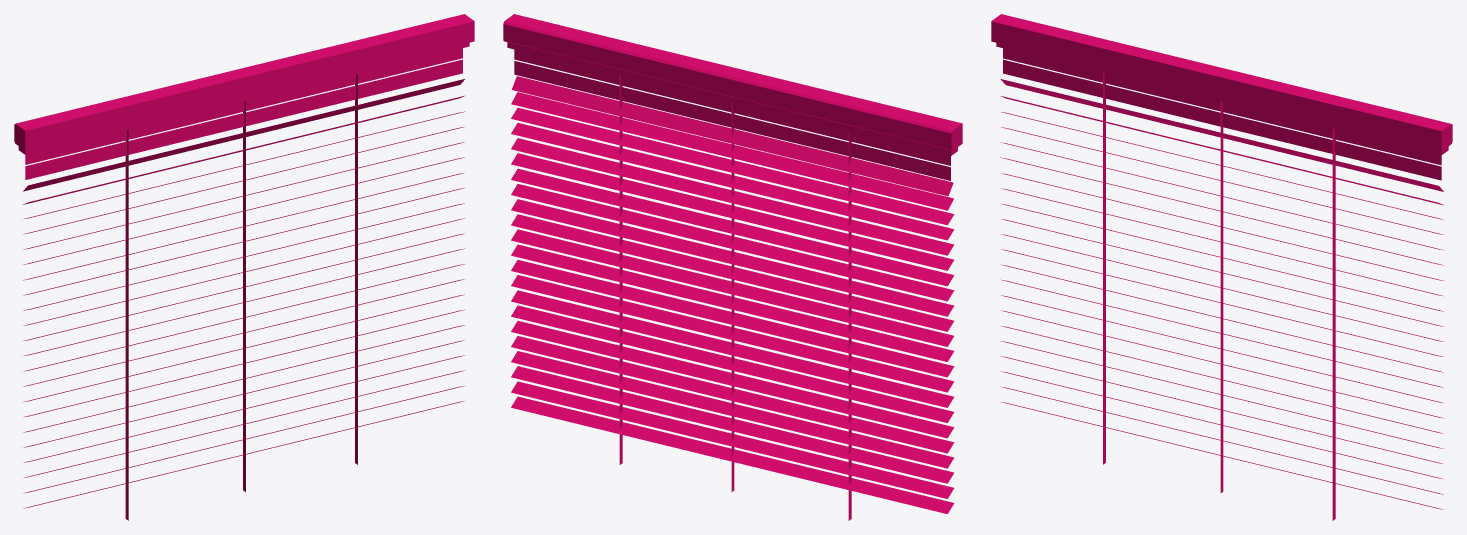
The model's file is Venitian_Blinds_02_Lod0.fbx.
3 views of the same model, side by side, from view 1: azimuth 30°, elevation 25°; view 2: azimuth 150°, elevation 25°; view 3: azimuth 330°, elevation 25° (orthographic).
Visible parts, largest first — view 1: Venitian_Blinds_02_Lod0; view 2: Venitian_Blinds_02_Lod0; view 3: Venitian_Blinds_02_Lod0.
Boxes of the visible parts, x1=… form: Venitian_Blinds_02_Lod0: x1=14, y1=14, x2=474, y2=520; Venitian_Blinds_02_Lod0: x1=503, y1=14, x2=962, y2=520; Venitian_Blinds_02_Lod0: x1=991, y1=14, x2=1452, y2=520.
Bounding box in the file's own units: 179 × 159 × 7.6.
